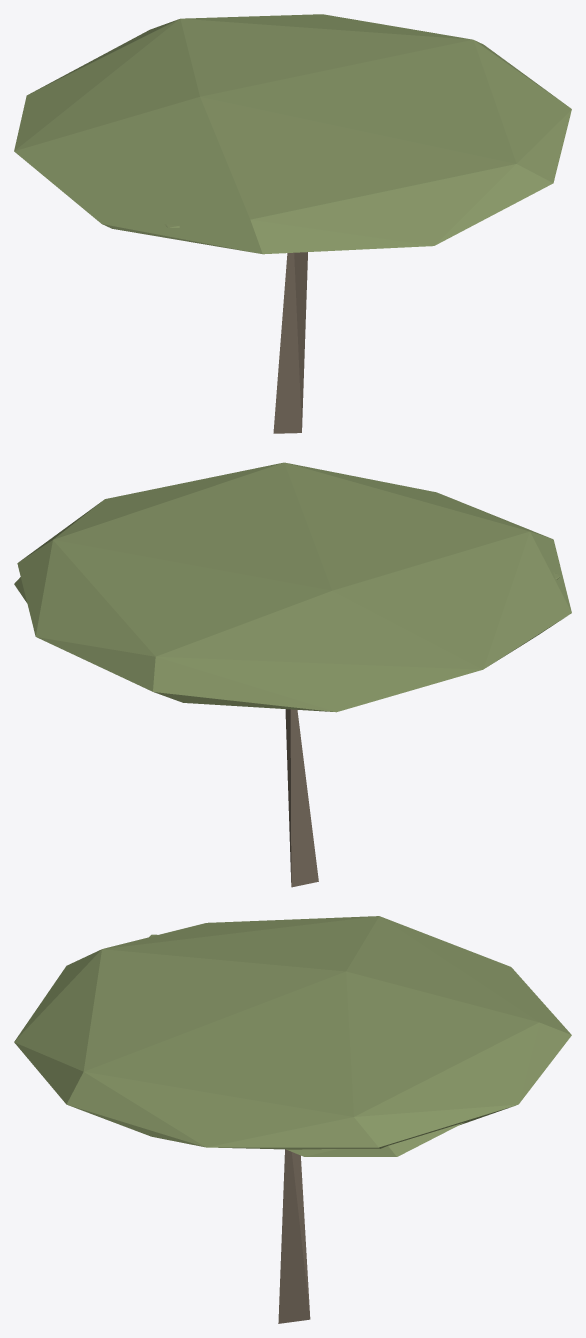
The model's file is acacia_LOD2.fbx.
3 views of the same model, one above another, from view 1: azimuth 30°, elevation 25°; view 2: azimuth 150°, elevation 25°; view 3: azimuth 270°, elevation 25° (orthographic). The views are drawn at different scales.
Parts seen in each view (by area): view 1: acacia_LOD2; view 2: acacia_LOD2; view 3: acacia_LOD2.
Part boxes in pixels (box(x1,y1,x2,y2)): acacia_LOD2: box(14, 14, 571, 433); acacia_LOD2: box(14, 462, 571, 887); acacia_LOD2: box(14, 916, 571, 1323).
Size of the model in its own units: 1050 by 699 by 1103.
